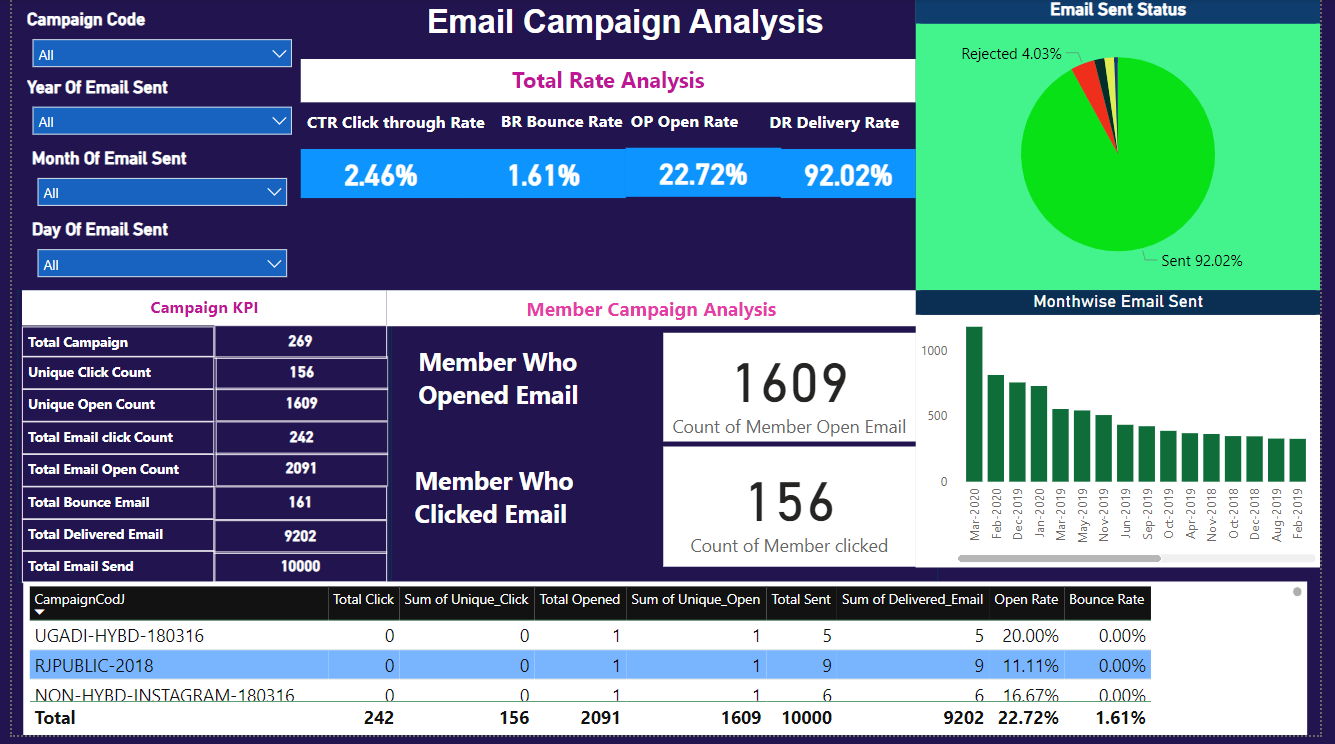

This screenshot's page, from the dashboard's own definition file:
{"tool":"powerbi","page":{"name":"Page 1","canvas":[1280,720],"ordinal":0},"visuals":[{"type":"textbox","box":[293.5,0,612.6,56.3],"z":0},{"type":"slicer","title":"Campaign Code","fields":{"Values":["Sheet1.CampaignCodJ"]},"box":[9.8,9.8,273.9,59.9],"z":1000},{"type":"slicer","title":"Year Of Email Sent","fields":{"Values":["Sheet1.Email_SentDate.Variation.Date Hierarchy.Year"]},"box":[9.8,75.8,273.9,69.7],"z":2000},{"type":"slicer","title":"Month Of Email Sent","fields":{"Values":["Sheet1.Email_SentDate.Variation.Date Hierarchy.Month"]},"box":[14.7,145.5,264.1,69.7],"z":3000},{"type":"slicer","title":"Day Of Email Sent","fields":{"Values":["Sheet1.Email_SentDate.Variation.Date Hierarchy.Day"]},"box":[14.7,215.2,264.1,69.7],"z":4000},{"type":"shape","box":[283.7,61.1,600.4,173.6],"z":5000},{"type":"textbox","box":[282.5,58.7,601.6,42.8],"z":6000},{"type":"textbox","box":[473.2,102.7,138.2,33],"z":7000},{"type":"textbox","box":[600.4,102.7,132.1,33],"z":8000},{"type":"textbox","box":[731.3,103.9,152.9,36.7],"z":9000},{"type":"shape","box":[4.9,284.9,366.8,286.1],"z":10000},{"type":"textbox","box":[9.8,284.9,357.1,34.2],"z":11000},{"type":"textbox","box":[9.8,320.4,188.3,29.3],"z":12000},{"type":"textbox","box":[9.8,413.3,188.3,31.8],"z":13000},{"type":"textbox","box":[9.8,445.1,188.3,31.8],"z":14000},{"type":"textbox","box":[9.8,476.9,188.3,31.8],"z":15000},{"type":"textbox","box":[9.8,508.7,188.3,31.8],"z":16000},{"type":"textbox","box":[9.8,349.7,188.3,31.8],"z":17000},{"type":"textbox","box":[9.8,381.5,188.3,31.8],"z":18000},{"type":"textbox","box":[9.8,539.3,188.3,31.8],"z":19000},{"type":"card","fields":{"Values":["Count(Sheet1.CampaignCodJ)"]},"box":[198.1,319.2,168.8,33],"z":20000},{"type":"card","fields":{"Values":["Sum(email_marketing.Unique_Click)"]},"box":[199.3,349.7,168.8,33],"z":21000},{"type":"card","fields":{"Values":["Sum(email_marketing.Unique_Open)"]},"box":[199.3,380.3,168.8,33],"z":22000},{"type":"card","fields":{"Values":["Sum(email_marketing.Email_Click_Count)"]},"box":[199.3,413.3,168.8,33],"z":23000},{"type":"card","fields":{"Values":["Sum(email_marketing.Email_Open_Count)"]},"box":[199.3,443.9,168.8,33],"z":24000},{"type":"card","fields":{"Values":["Sum(email_marketing.Bounced_Email)"]},"box":[198.1,476.9,168.8,33],"z":25000},{"type":"card","fields":{"Values":["Sum(email_marketing.Delivered_Email)"]},"box":[198.1,509.9,168.8,33],"z":26000},{"type":"card","fields":{"Values":["Sum(email_marketing.Is_Email_Sent)"]},"box":[198.1,540.5,168.8,30.6],"z":27000},{"type":"card","fields":{"Values":["email_marketing.CTR"]},"box":[282.5,146.7,156.5,47.7],"z":28000},{"type":"card","fields":{"Values":["email_marketing.BR"]},"box":[439,146.7,161.4,47.7],"z":29000},{"type":"card","fields":{"Values":["email_marketing.OR"]},"box":[600.4,145.5,151.6,47.7],"z":30000},{"type":"card","fields":{"Values":["email_marketing.DR"]},"box":[752,146.7,132.1,47.7],"z":31000},{"type":"shape","box":[368.1,284.9,538,286.1],"z":32000},{"type":"textbox","box":[366.8,284.9,517.3,35.5],"z":33000},{"type":"textbox","box":[392.5,333.8,233.6,89.3],"z":34000},{"type":"textbox","box":[388.9,450,222.6,89.3],"z":35000},{"type":"card","fields":{"Values":["CountNonNull(email_marketing.Member Open)"]},"box":[637.1,326.5,247,106.4],"z":36000},{"type":"card","fields":{"Values":["CountNonNull(email_marketing.Member click)"]},"box":[637.1,437.8,247,117.4],"z":37000},{"type":"pieChart","title":"Email Sent Status","fields":{"Category":["email_marketing.Email_Sent_Status"],"Y":["CountNonNull(email_marketing.CampaignCodJ)"]},"box":[884.1,0,396.2,284.9],"z":38000},{"type":"clusteredColumnChart","title":"Monthwise Email Sent","fields":{"Category":["email_marketing.Month_Year"],"Y":["Sum(email_marketing.Is_Email_Sent)"]},"box":[884.1,284.9,396.2,271.5],"z":39000},{"type":"tableEx","fields":{"Values":["email_marketing.CampaignCodJ","Sum(email_marketing.Email_Click_Count)","Sum(email_marketing.Unique_Click)","Sum(email_marketing.Email_Open_Count)","Sum(email_marketing.Unique_Open)","Sum(email_marketing.Is_Email_Sent)","Sum(email_marketing.Delivered_Email)","email_marketing.OR","email_marketing.BR"]},"box":[11,569.8,1255.8,150.4],"z":40000},{"type":"textbox","box":[283.7,103.9,201.8,36.7],"z":41000}]}

Visuals, with their boxes in screenshot pixels (x1, y1, x2, y2), scaled from the page's 1280x720 canvas onto the 1335x744 screenshot:
textbox: BBox(306, 0, 945, 58)
"Campaign Code" slicer: BBox(10, 10, 296, 72)
"Year Of Email Sent" slicer: BBox(10, 78, 296, 150)
"Month Of Email Sent" slicer: BBox(15, 150, 291, 222)
"Day Of Email Sent" slicer: BBox(15, 222, 291, 294)
shape: BBox(296, 63, 922, 243)
textbox: BBox(295, 61, 922, 105)
textbox: BBox(494, 106, 638, 140)
textbox: BBox(626, 106, 764, 140)
textbox: BBox(763, 107, 922, 145)
shape: BBox(5, 294, 388, 590)
textbox: BBox(10, 294, 383, 330)
textbox: BBox(10, 331, 207, 361)
textbox: BBox(10, 427, 207, 460)
textbox: BBox(10, 460, 207, 493)
textbox: BBox(10, 493, 207, 526)
textbox: BBox(10, 526, 207, 559)
textbox: BBox(10, 361, 207, 394)
textbox: BBox(10, 394, 207, 427)
textbox: BBox(10, 557, 207, 590)
card - Count(Sheet1.CampaignCodJ): BBox(207, 330, 383, 364)
card - Sum(email_marketing.Unique_Click): BBox(208, 361, 384, 395)
card - Sum(email_marketing.Unique_Open): BBox(208, 393, 384, 427)
card - Sum(email_marketing.Email_Click_Count): BBox(208, 427, 384, 461)
card - Sum(email_marketing.Email_Open_Count): BBox(208, 459, 384, 493)
card - Sum(email_marketing.Bounced_Email): BBox(207, 493, 383, 527)
card - Sum(email_marketing.Delivered_Email): BBox(207, 527, 383, 561)
card - Sum(email_marketing.Is_Email_Sent): BBox(207, 559, 383, 590)
card - email_marketing.CTR: BBox(295, 152, 458, 201)
card - email_marketing.BR: BBox(458, 152, 626, 201)
card - email_marketing.OR: BBox(626, 150, 784, 200)
card - email_marketing.DR: BBox(784, 152, 922, 201)
shape: BBox(384, 294, 945, 590)
textbox: BBox(383, 294, 922, 331)
textbox: BBox(409, 345, 653, 437)
textbox: BBox(406, 465, 638, 557)
card - CountNonNull(email_marketing.Member Open): BBox(664, 337, 922, 447)
card - CountNonNull(email_marketing.Member click): BBox(664, 452, 922, 574)
"Email Sent Status" pieChart: BBox(922, 0, 1334, 294)
"Monthwise Email Sent" clusteredColumnChart: BBox(922, 294, 1334, 575)
tableEx - email_marketing.CampaignCodJ x Sum(email_marketing.Email_Click_Count): BBox(11, 589, 1321, 743)
textbox: BBox(296, 107, 506, 145)
